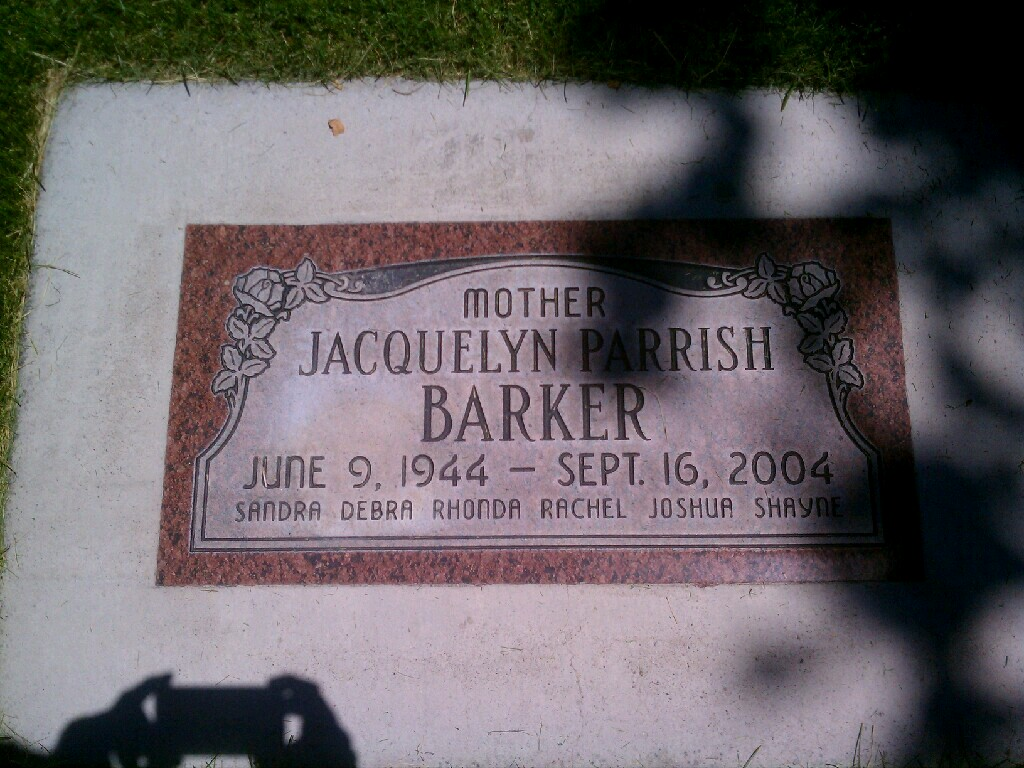flat: (156, 214, 931, 591)
